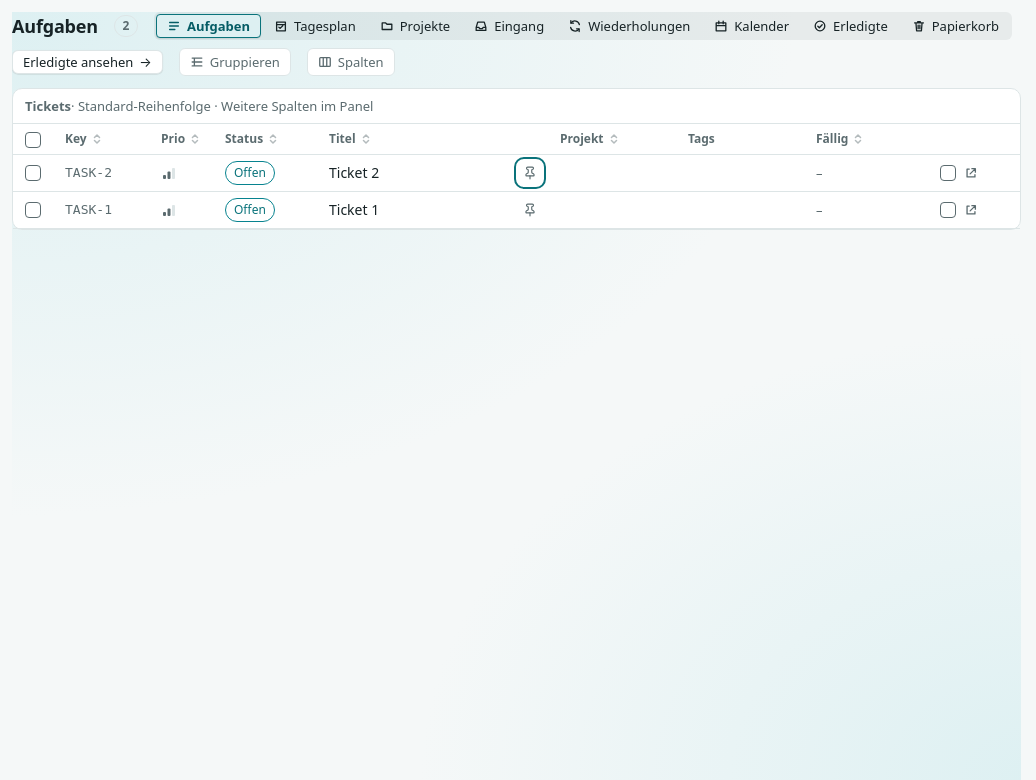
Scenario: section "Angeheftet" of the ticket table › pins and releases with the toggle of a row; the focus follows the row
The image size is (1036, 780).
Expected: the element "Angeheftet" is not shown
Click the button named "TASK-2 anheften" at (530, 173), box x1=518 y1=161 x2=542 y2=185
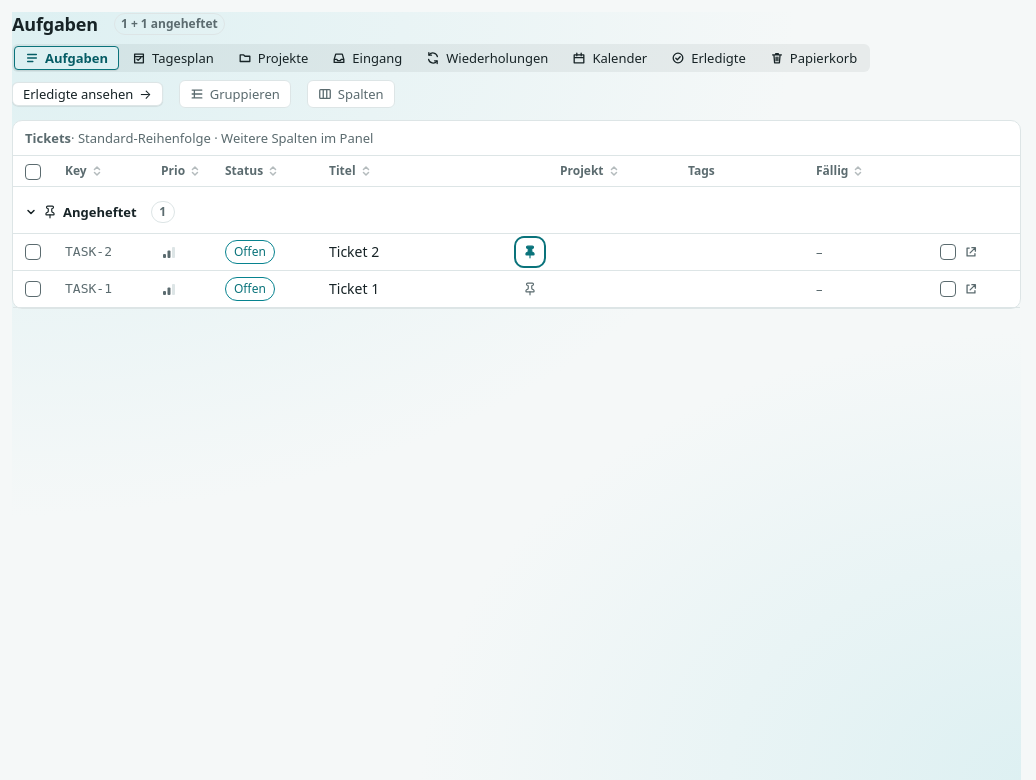
Click the button named "TASK-2 anheften" at (530, 252), box x1=518 y1=240 x2=542 y2=264
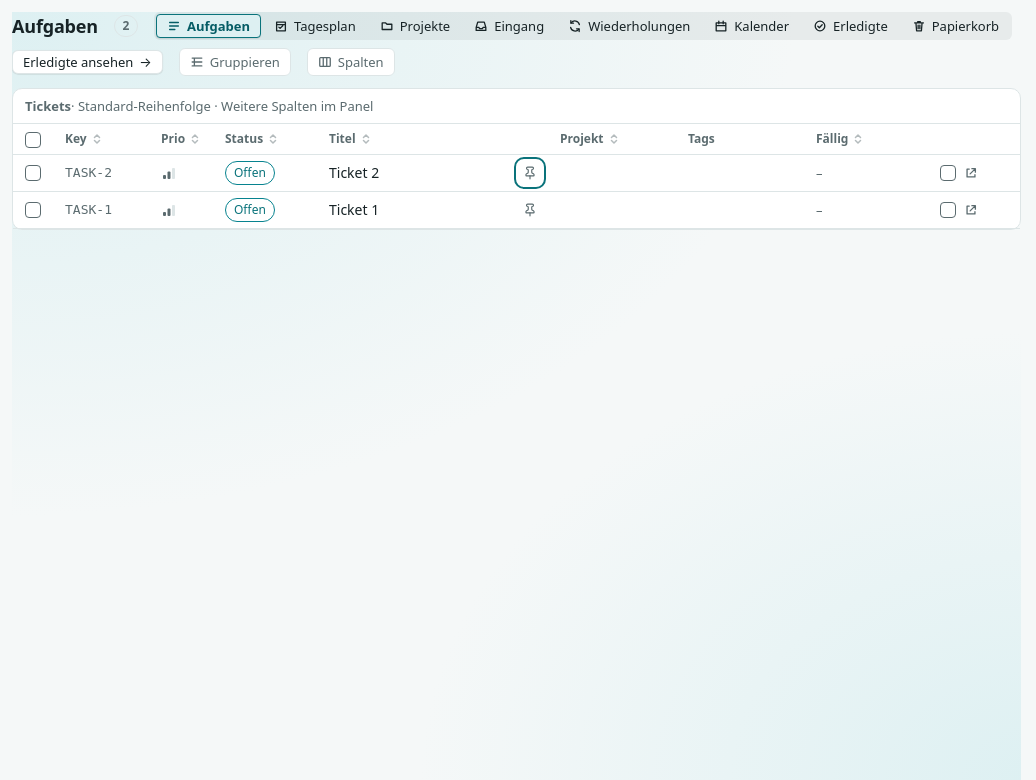
Expected: the button "Angeheftet" is gone
